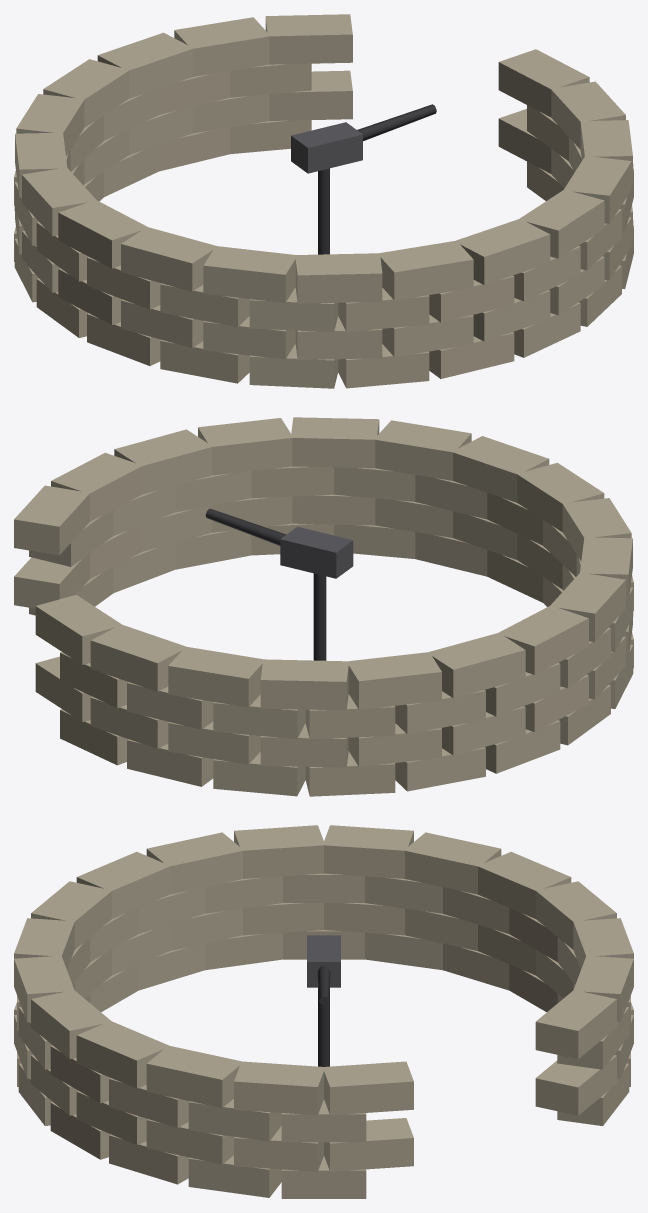
File: mg_nest.glb
3 renders of one model, top to bottom at view 1: azimuth 30°, elevation 25°; view 2: azimuth 150°, elevation 25°; view 3: azimuth 270°, elevation 25°, orthographic.
Visible parts, largest first — view 1: mg_nest; view 2: mg_nest; view 3: mg_nest.
Part boxes in pixels (left/top/right/bottom): mg_nest: left=14, top=14, right=633, bottom=388; mg_nest: left=14, top=417, right=633, bottom=796; mg_nest: left=14, top=825, right=633, bottom=1198.
Size of the model in its own units: 4.38 by 0.9801 by 4.38.
